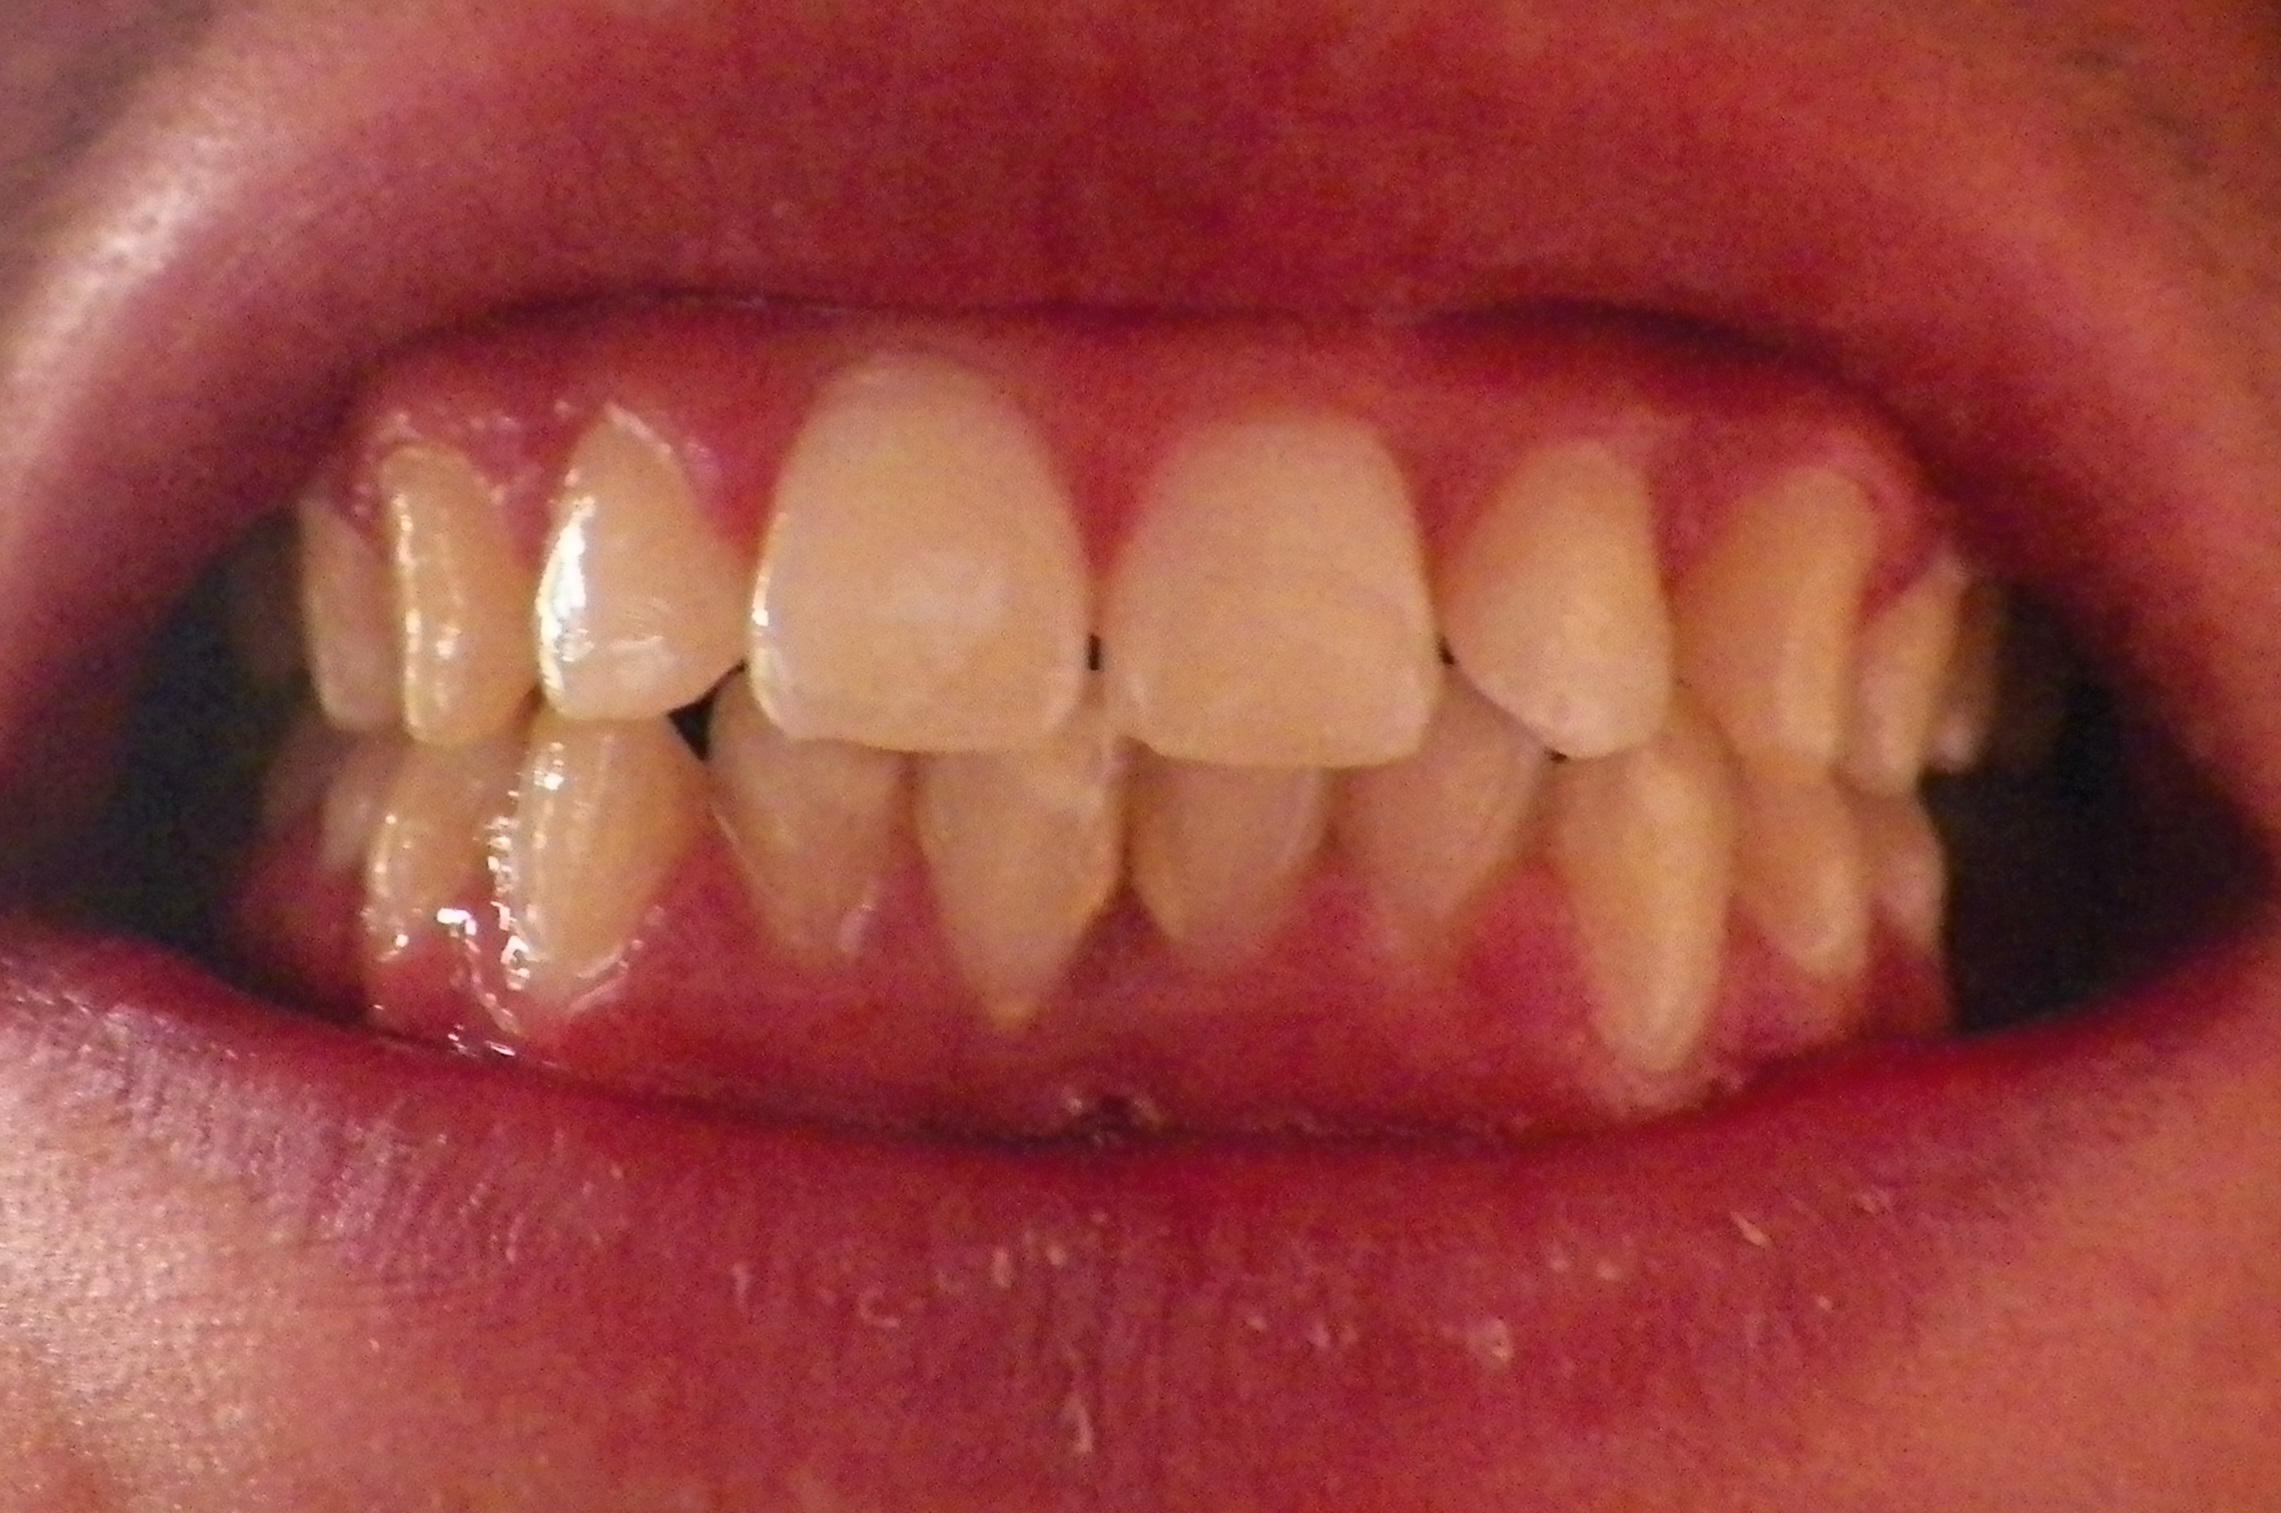boca: (252, 449, 2024, 1038)
